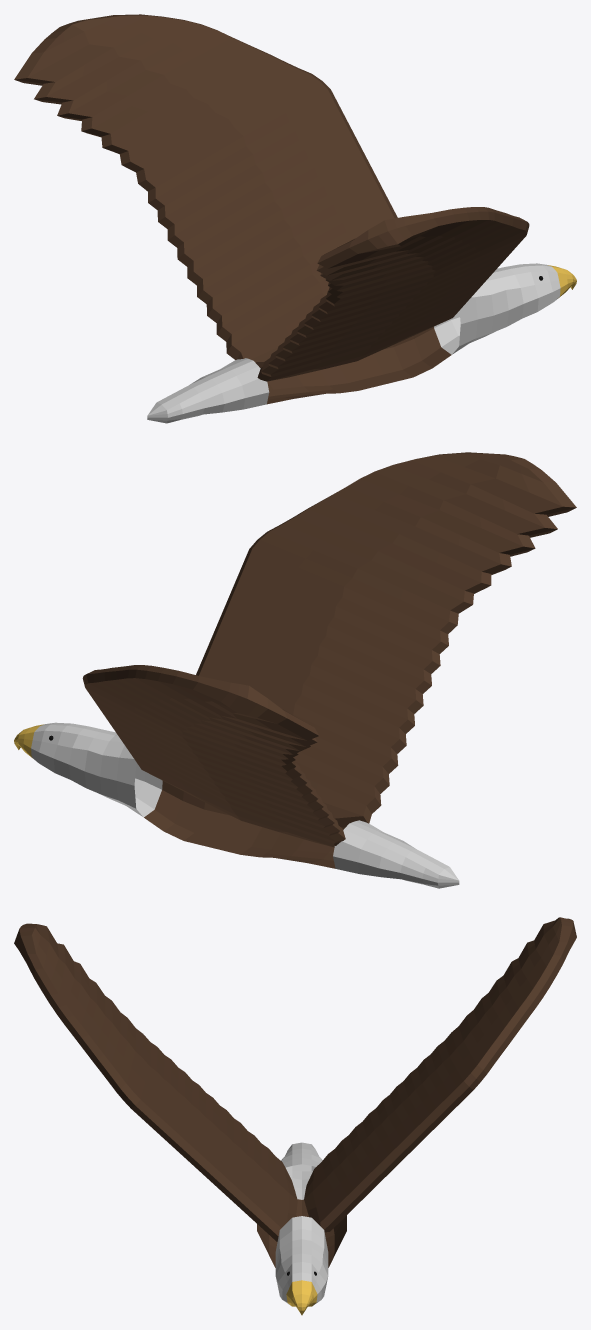
Rendered from 09_golden_eagle.glb.
The picture shows the model from 3 angles, top to bottom: view 1: azimuth 30°, elevation 25°; view 2: azimuth 150°, elevation 25°; view 3: azimuth 270°, elevation 25°; orthographic projection. The views are drawn at different scales.
Visible parts, largest first — view 1: Plane.002, Plane.001, Plane; view 2: Plane.001, Plane.002, Plane; view 3: Plane.001, Plane.002, Plane.
Boxes of the visible parts, bbox=[...] form: Plane.002: bbox=[14, 14, 397, 368]; Plane.001: bbox=[257, 207, 529, 381]; Plane: bbox=[147, 263, 576, 423]; Plane.001: bbox=[196, 452, 576, 826]; Plane.002: bbox=[82, 665, 345, 847]; Plane: bbox=[14, 722, 459, 888]; Plane.001: bbox=[14, 923, 297, 1241]; Plane.002: bbox=[304, 917, 576, 1232]; Plane: bbox=[257, 1142, 346, 1315].
Size of the model in its own units: 4.71 by 3.14 by 5.76.
